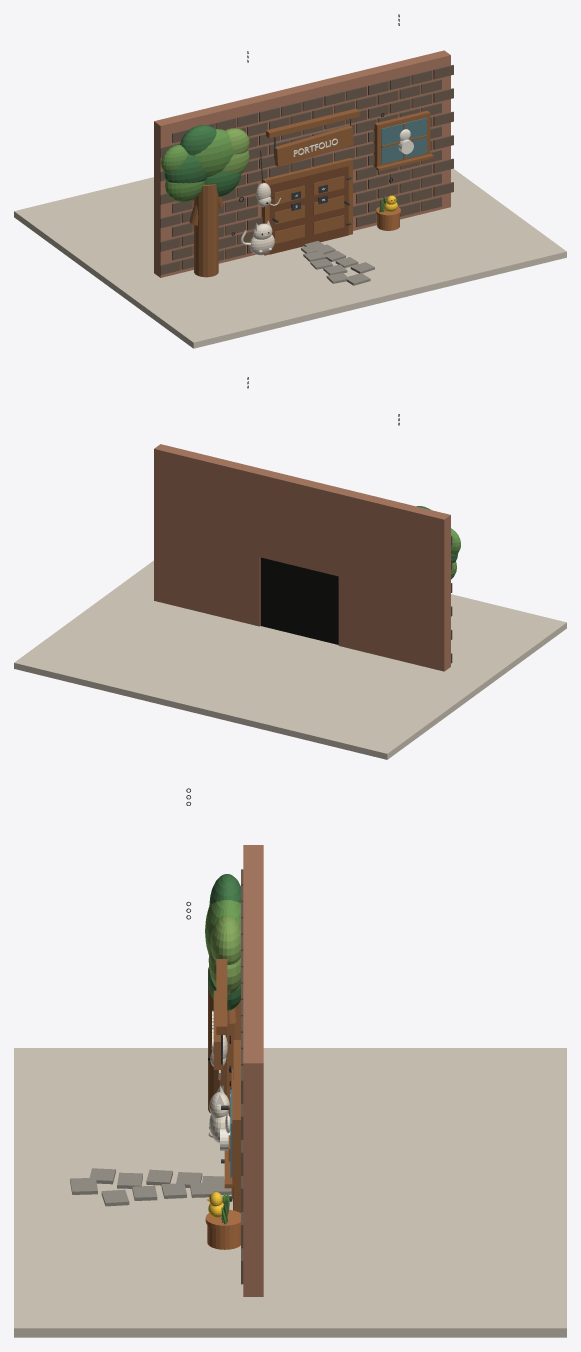
The model's file is portfolio-entrance.glb.
3 views of the same model, one above another, from view 1: azimuth 30°, elevation 25°; view 2: azimuth 150°, elevation 25°; view 3: azimuth 270°, elevation 25° (orthographic). The views are drawn at different scales.
Parts seen in each view (by area): view 1: Entrance_Ground, Wall_Right, Wall_Left, Tree_Trunk, Wall_Top, Right_Door, Left_Door, Portfolio_Sign, Window_Glass, Tree_Leaf_Clump_1, Window_Frame, Sign_Beam (+7 smaller); view 2: Entrance_Ground, Wall_Left, Wall_Right, Wall_Top, Interior_Dark; view 3: Entrance_Ground, Wall_Right, Wall_Left, Tree_Trunk, Wall_Top, Tree_Leaf_Clump_5, Window_Frame, Sign_Beam, Tree_Leaf_Clump_1, Tree_Leaf_Clump_6, Planter.
Part boxes in pixels (x1,y1,x2,y2): Entrance_Ground: [14, 168, 566, 348]; Wall_Right: [339, 50, 450, 230]; Wall_Left: [154, 95, 266, 277]; Tree_Trunk: [194, 184, 218, 277]; Wall_Top: [260, 76, 345, 176]; Right_Door: [309, 166, 348, 242]; Left_Door: [269, 175, 309, 254]; Portfolio_Sign: [274, 125, 353, 166]; Window_Glass: [381, 117, 426, 164]; Tree_Leaf_Clump_1: [193, 129, 233, 177]; Window_Frame: [373, 110, 430, 167]; Sign_Beam: [266, 108, 359, 138]; Entrance_Ground: [14, 560, 566, 759]; Wall_Left: [338, 489, 450, 671]; Wall_Right: [154, 444, 265, 626]; Wall_Top: [259, 470, 344, 576]; Interior_Dark: [260, 557, 338, 644]; Entrance_Ground: [14, 1048, 566, 1337]; Wall_Right: [243, 983, 263, 1296]; Wall_Left: [243, 845, 263, 924]; Tree_Trunk: [208, 968, 240, 1112]; Wall_Top: [243, 924, 263, 983]; Tree_Leaf_Clump_5: [210, 915, 240, 964]; Window_Frame: [232, 1080, 240, 1186]; Sign_Beam: [216, 959, 227, 1034]; Tree_Leaf_Clump_1: [205, 900, 240, 954]; Tree_Leaf_Clump_6: [209, 874, 240, 905]; Planter: [207, 1225, 240, 1249].
Bounding box in the file's own units: 18 × 10.55 × 15.
